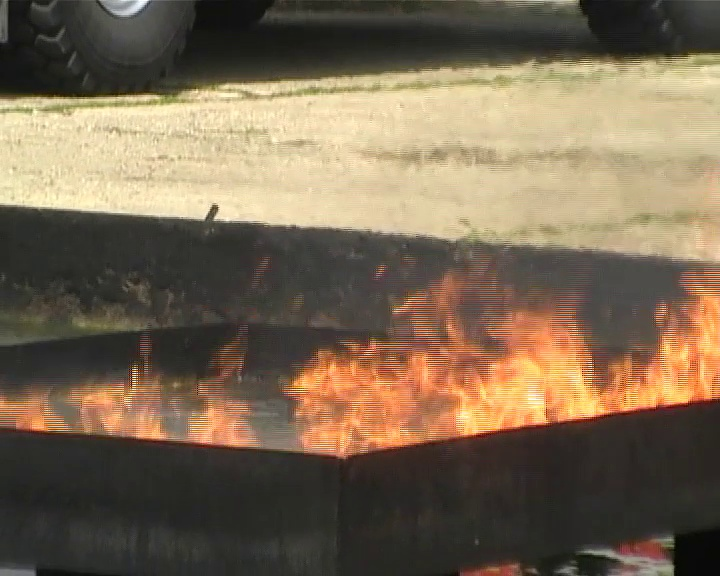fire: (298, 285, 720, 454), (3, 376, 253, 447)
